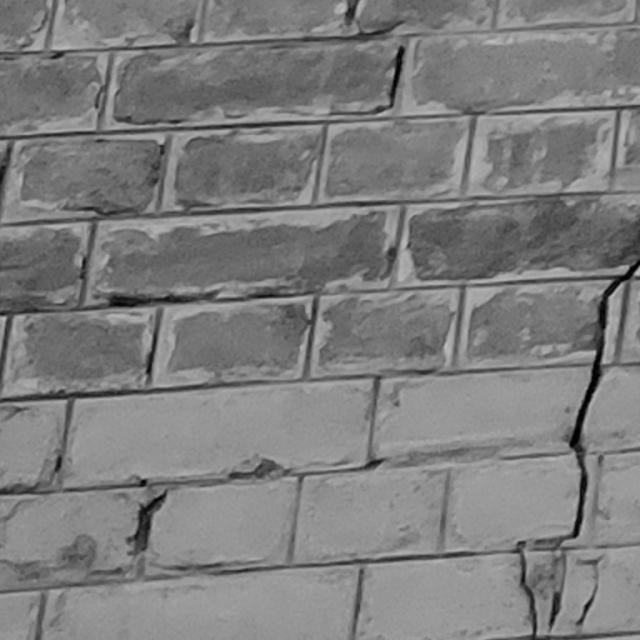crack: (515, 260, 639, 640)
